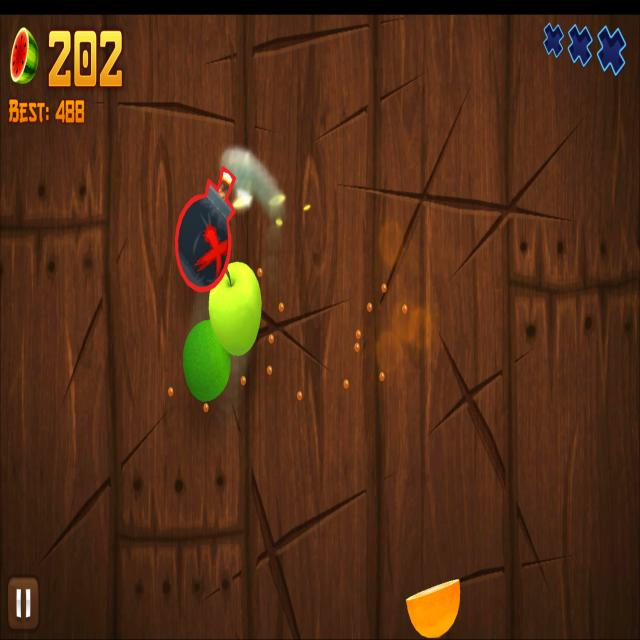bomb: (174, 164, 238, 293)
fruit: (209, 262, 262, 356), (182, 319, 232, 402)
